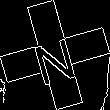N_N: (29, 25, 81, 85)
